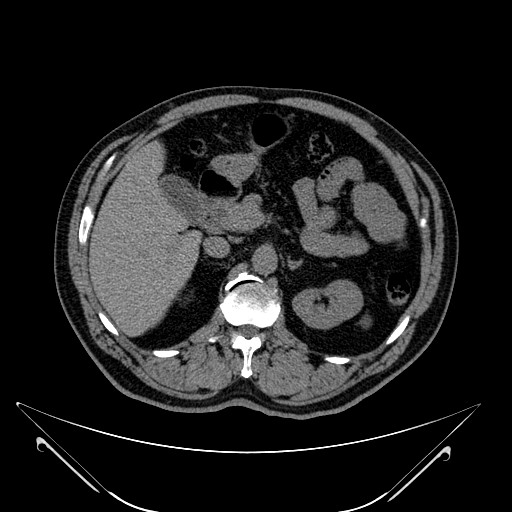vesicula: (156, 172, 206, 228)
